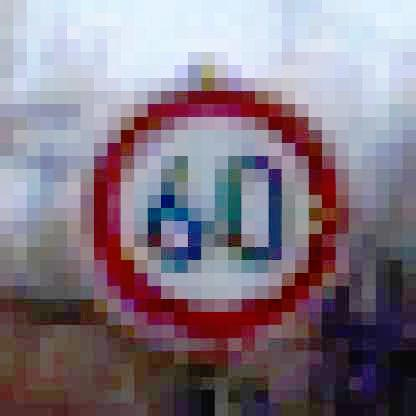Speed Limit -60-: (76, 78, 357, 346)
